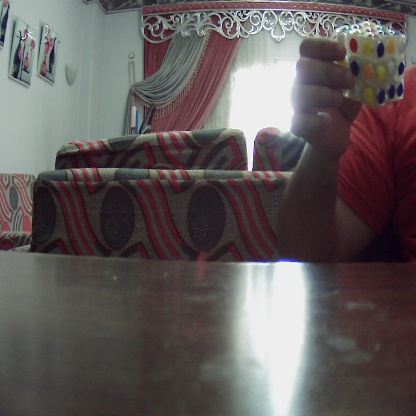Rubix Cube: (335, 25, 408, 104)
